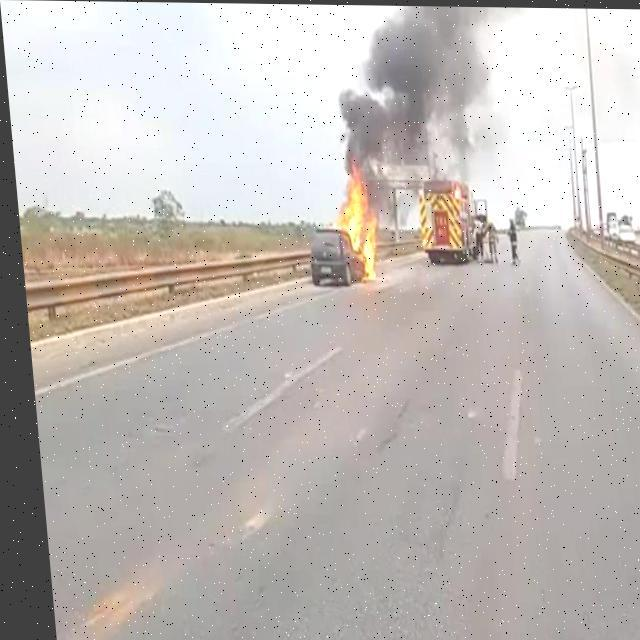Fire: (328, 172, 380, 286)
